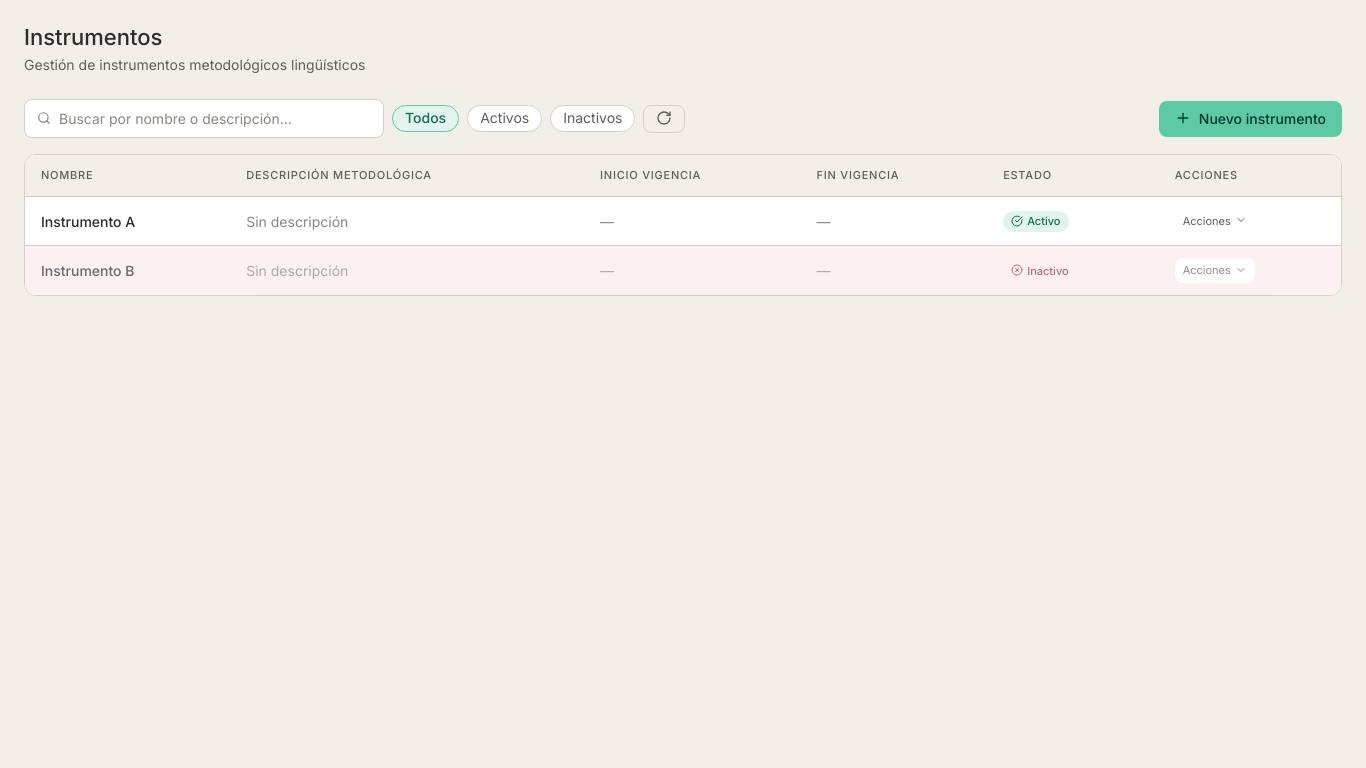
Test case: GestionInstrumentos — validación start_date < end_date › bloquea el avance del wizard cuando end_date == start_date (igualdad estricta)
This screenshot has width=1366, height=768.
Click the button "Nuevo instrumento" at point(1250, 119), box [1159,101,1342,137]
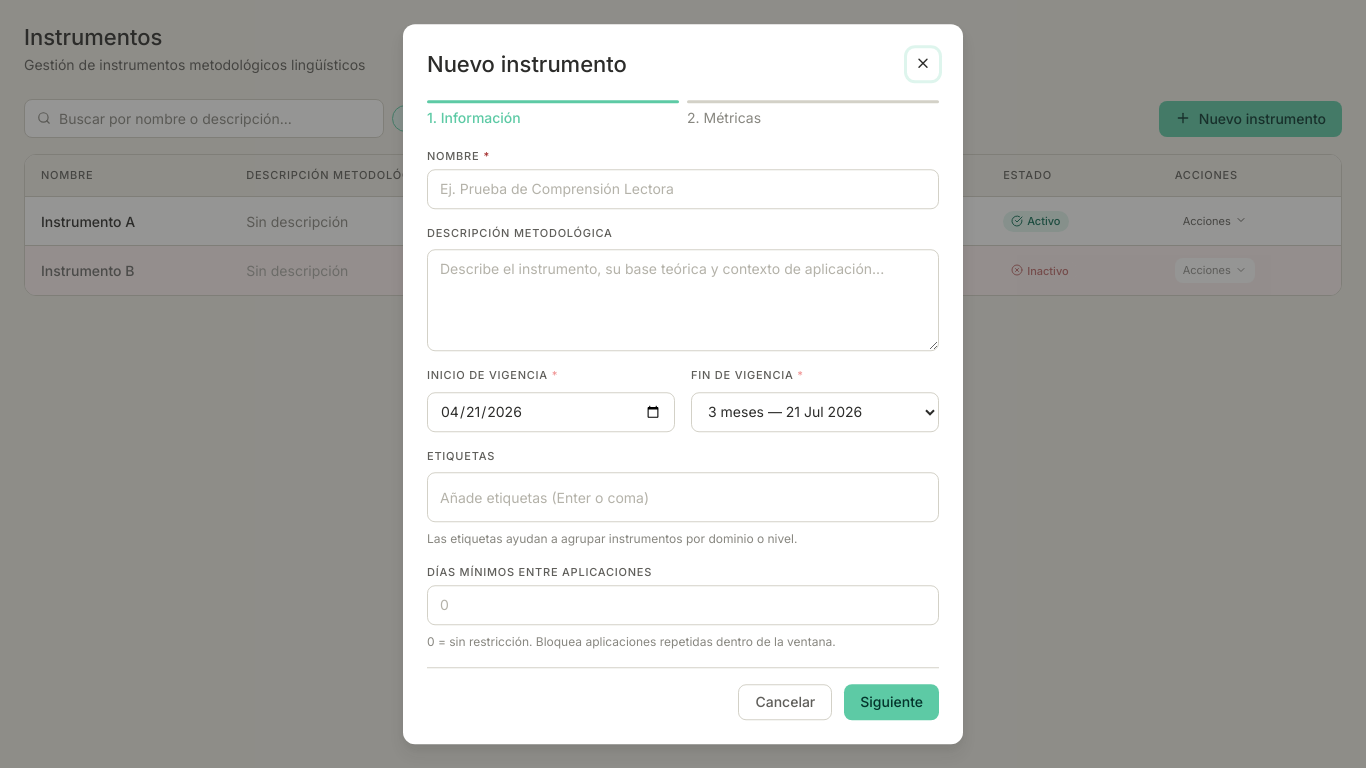
Now the heading "Nuevo instrumento" is shown, box [427,51,627,77]
Type "Instrumento de prueba" into the field labelled "Nombre*" at point(683, 189), box [427,169,939,209]
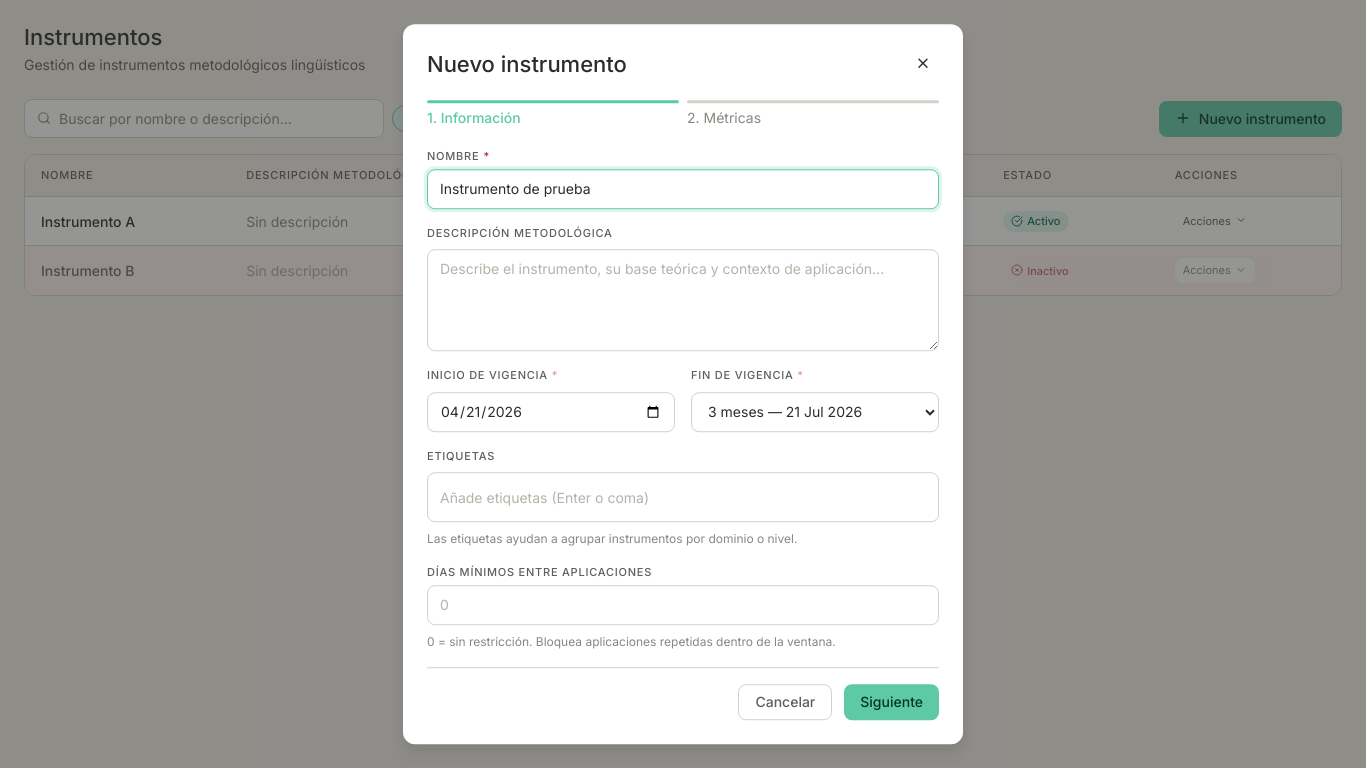
Select "Fecha personalizada" in the dropdown labelled "Fin de vigencia *" at point(815, 412), box [691,392,939,432]
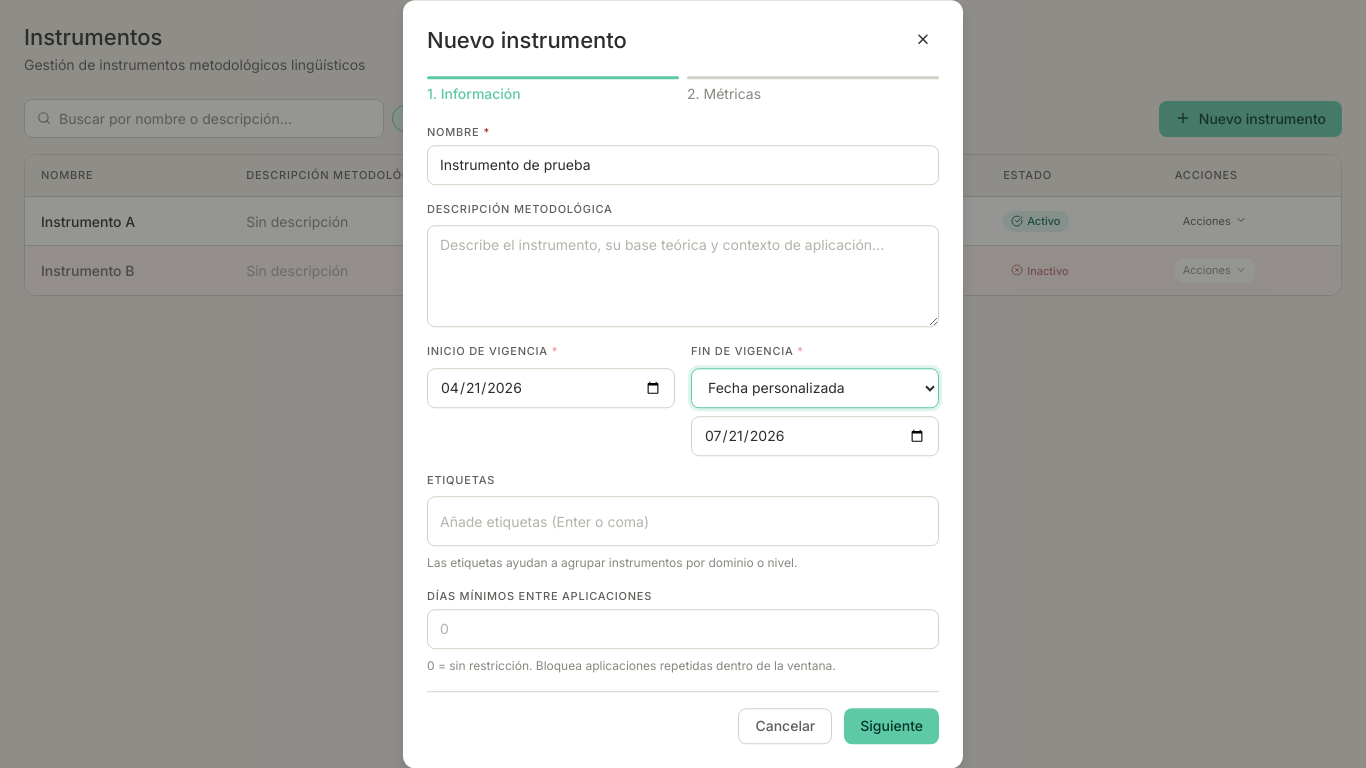
Type "2026-06-01" into the date field labelled "Inicio de vigencia *" at point(551, 388), box [427,368,675,408]
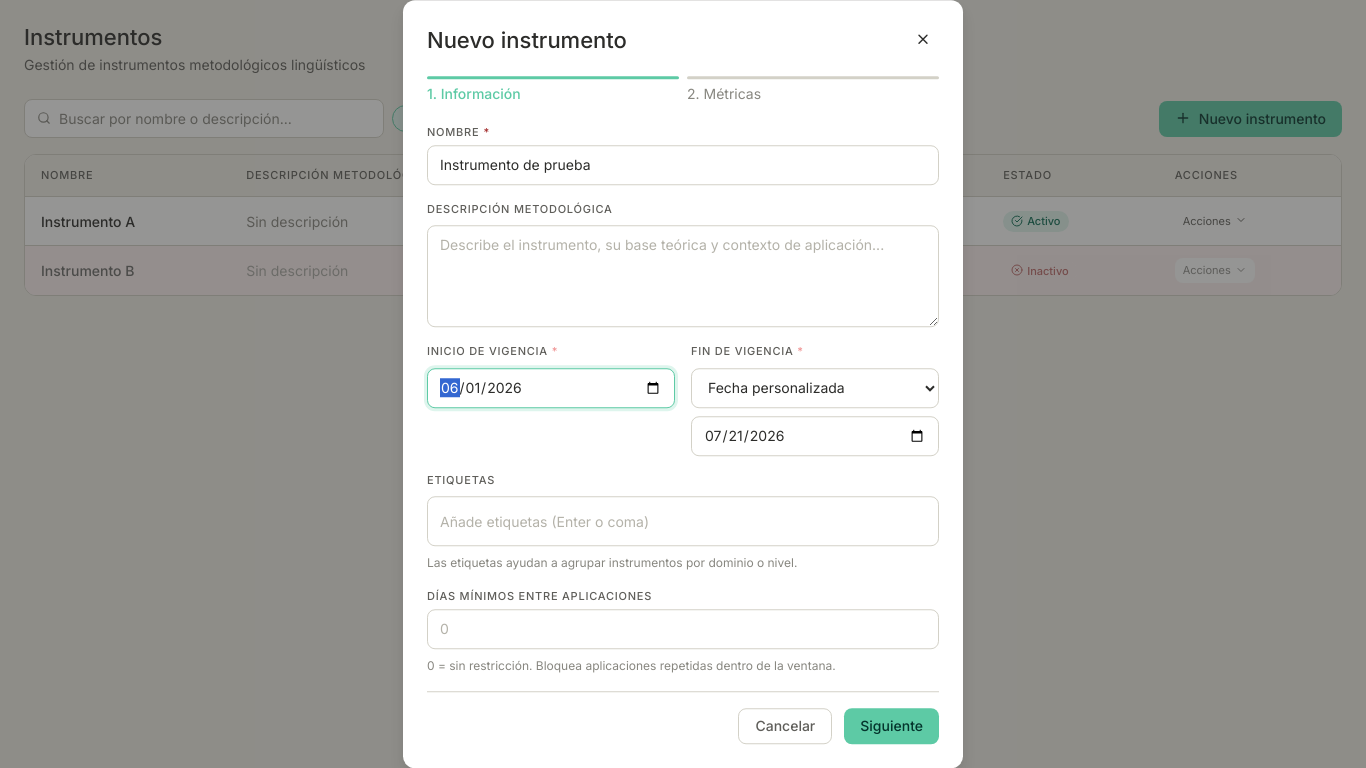
Type "2026-06-01" into the 2nd date field at point(815, 436), box [691,416,939,456]
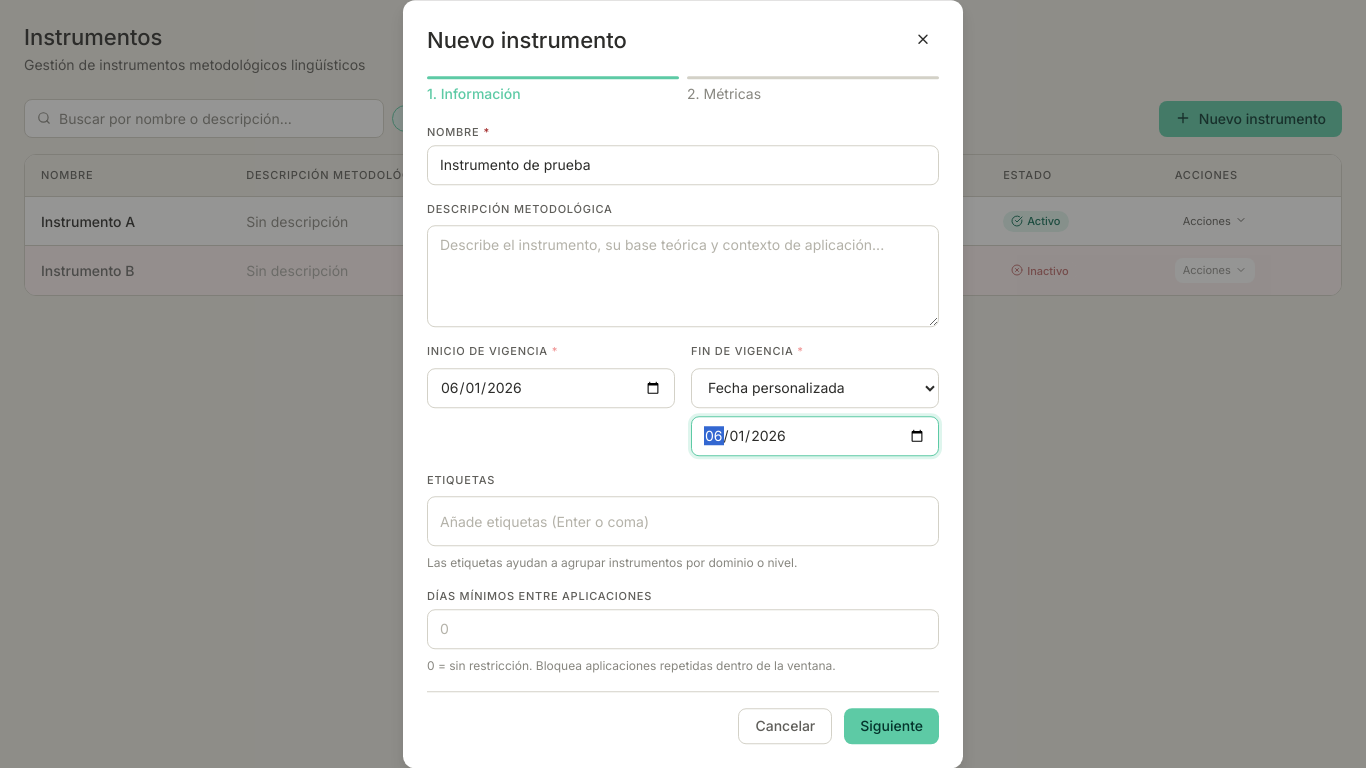
Click the button "Siguiente" at point(892, 726), box [844,708,939,744]
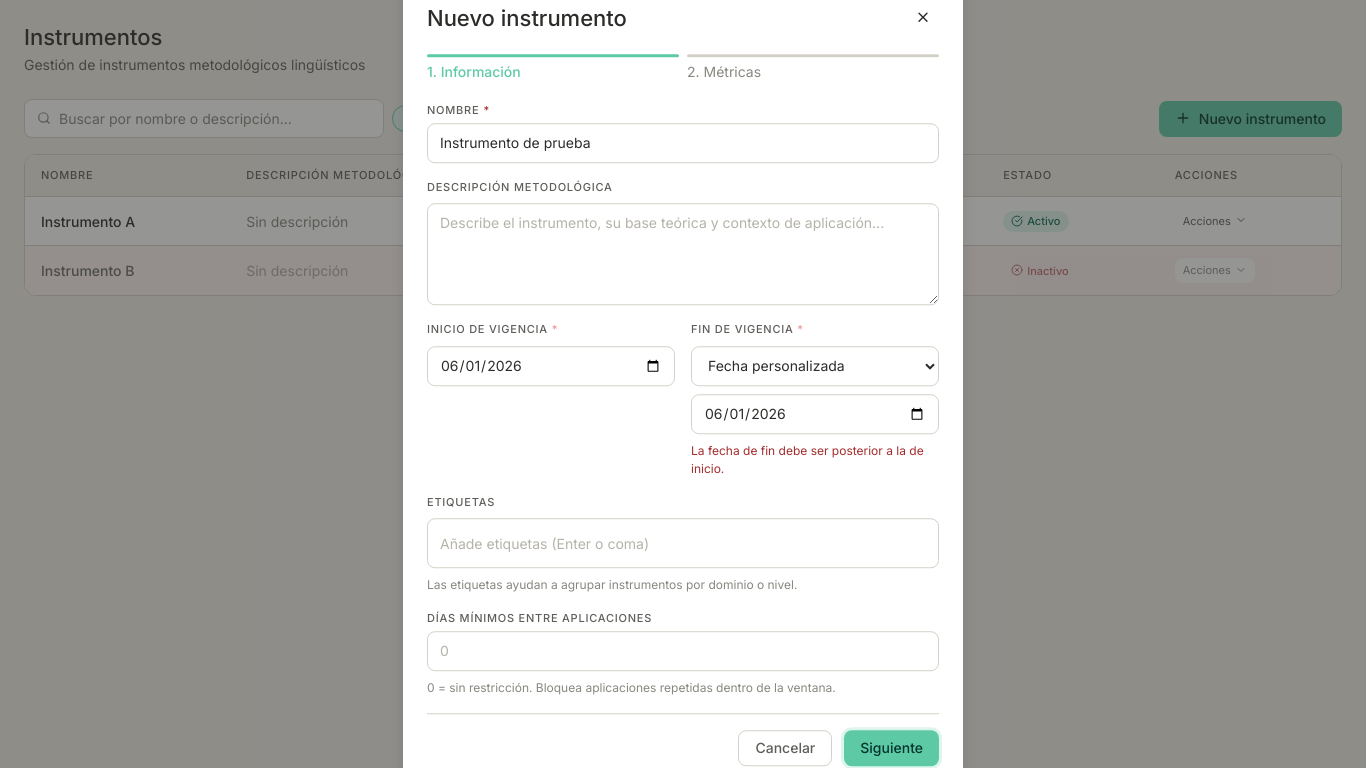
Now the text "La fecha de fin debe ser posterior a la de inicio." is shown, box [691,442,939,478]
